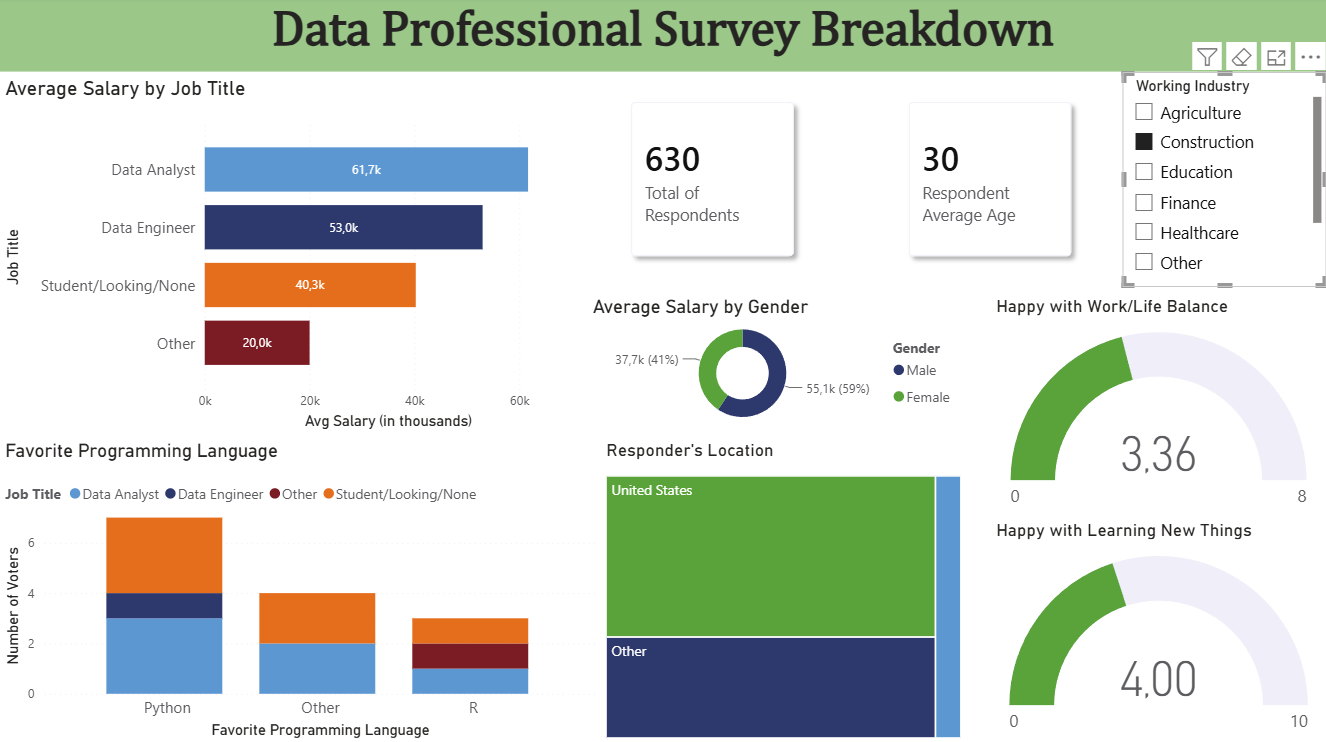

The page's visual inventory and layout, read from the dashboard file:
{"tool":"powerbi","page":{"name":"Page 1","canvas":[1280,720],"ordinal":0},"visuals":[{"type":"textbox","box":[0,0,1280,72.4],"z":0},{"type":"cardVisual","fields":{"Data":["Count(Data Professional Survey.Unique ID)"]},"box":[580.3,72.4,216,207.5],"z":1000},{"type":"cardVisual","fields":{"Data":["Avg(Data Professional Survey.Q10 - Current Age)"]},"box":[848.1,72.4,216,207.5],"z":2000},{"type":"barChart","title":"Average Salary by Job Title","fields":{"Category":["Data Professional Survey.Q1 - Which Title Best Fits your Current Role?.1"],"Y":["Avg(Data Professional Survey.Avg Salary)"],"Series":["Data Professional Survey.Q1 - Which Title Best Fits your Current Role?.1"]},"box":[0,72.4,567,349.9],"z":3000},{"type":"columnChart","title":"Favorite Programming Language","fields":{"Category":["Data Professional Survey.Q5 - Favorite Programming Language.1"],"Y":["Count(Data Professional Survey.Unique ID)"],"Series":["Data Professional Survey.Q1 - Which Title Best Fits your Current Role?.1"]},"box":[0,422.3,580.3,298],"z":4000},{"type":"treemap","title":"Responder''s Location","fields":{"Values":["Count(Data Professional Survey.Unique ID)"],"Group":["Data Professional Survey.Q11 - Which Country do you live in?.1"]},"box":[580.3,422.3,352.3,298],"z":5000},{"type":"slicer","fields":{"Values":["Data Professional Survey.Q4 - What Industry do you work in?.1"]},"box":[1083.4,72.4,196.6,207.5],"z":6000},{"type":"gauge","title":"Happy with Work/Life Balance","fields":{"Y":["Avg(Data Professional Survey.Q6 - How Happy are you in your Current Position with the following? (Work/Life Balance))"],"MinValue":["Min(Data Professional Survey.Q6 - How Happy are you in your Current Position with the following? (Work/Life Balance))"],"MaxValue":["Max(Data Professional Survey.Q6 - How Happy are you in your Current Position with the following? (Work/Life Balance))"]},"box":[956.7,283.5,323.3,219.6],"z":7000},{"type":"gauge","title":"Happy with Learning New Things","fields":{"Y":["Avg(Data Professional Survey.Q6 - How Happy are you in your Current Position with the following? (Learning New Things))"],"MinValue":["Min(Data Professional Survey.Q6 - How Happy are you in your Current Position with the following? (Learning New Things))1"],"MaxValue":["Max(Data Professional Survey.Q6 - How Happy are you in your Current Position with the following? (Learning New Things))2"]},"box":[956.7,499.5,323.3,220.8],"z":8000},{"type":"donutChart","title":"Average Salary by Gender","fields":{"Category":["Data Professional Survey.Q9 - Male/Female?"],"Y":["Avg(Data Professional Survey.Avg Salary)"]},"box":[567,283.5,365.6,138.7],"z":9000}]}

Visuals, with their boxes in screenshot pixels (x1, y1, x2, y2), scaled from the page's 1280x720 canvas onto the 1326x742 screenshot:
textbox: {"left": 0, "top": 0, "right": 1325, "bottom": 75}
cardVisual - Count(Data Professional Survey.Unique ID): {"left": 601, "top": 75, "right": 825, "bottom": 288}
cardVisual - Avg(Data Professional Survey.Q10 - Current Age): {"left": 879, "top": 75, "right": 1102, "bottom": 288}
"Average Salary by Job Title" barChart: {"left": 0, "top": 75, "right": 587, "bottom": 435}
"Favorite Programming Language" columnChart: {"left": 0, "top": 435, "right": 601, "bottom": 741}
"Responder''s Location" treemap: {"left": 601, "top": 435, "right": 966, "bottom": 741}
slicer - Data Professional Survey.Q4 - What Industry do you work in?.1: {"left": 1122, "top": 75, "right": 1325, "bottom": 288}
"Happy with Work/Life Balance" gauge: {"left": 991, "top": 292, "right": 1325, "bottom": 518}
"Happy with Learning New Things" gauge: {"left": 991, "top": 515, "right": 1325, "bottom": 741}
"Average Salary by Gender" donutChart: {"left": 587, "top": 292, "right": 966, "bottom": 435}
